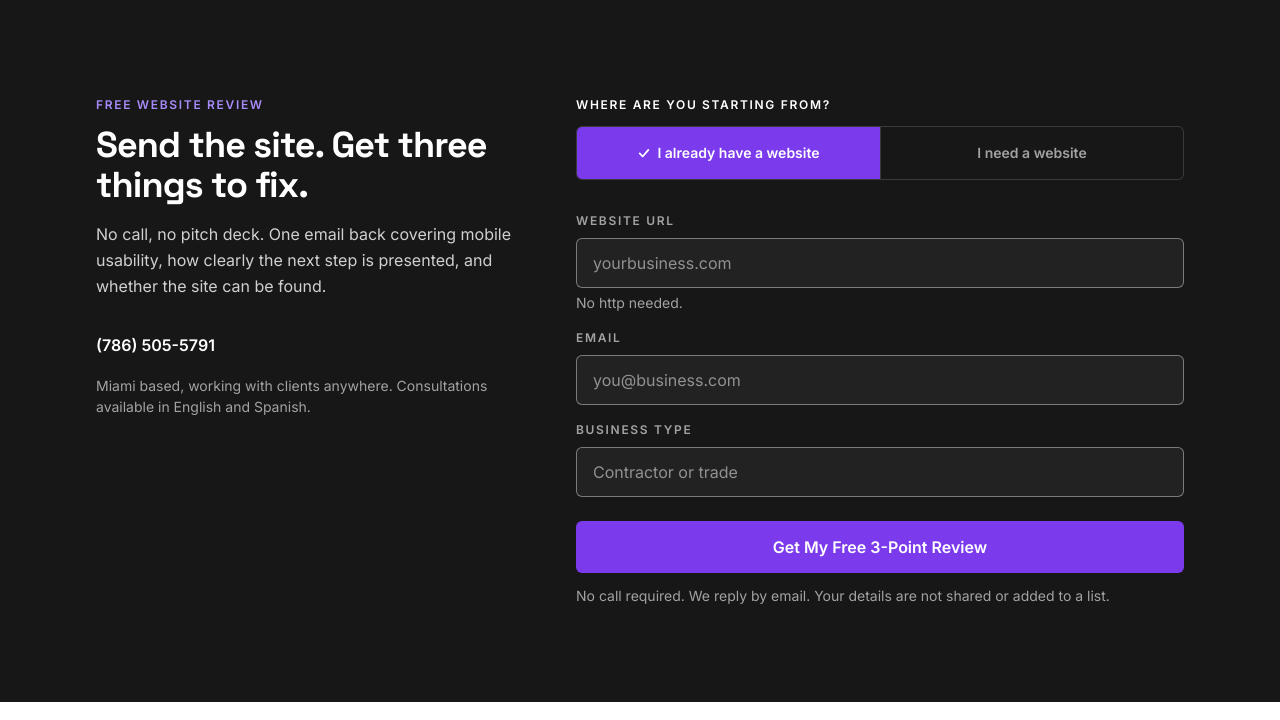
website address validation › rejects  and sends nothing
Type "bob@site.com" into the field labelled "Email" at (880, 380), box top-left (576, 355), bottom-right (1184, 405)
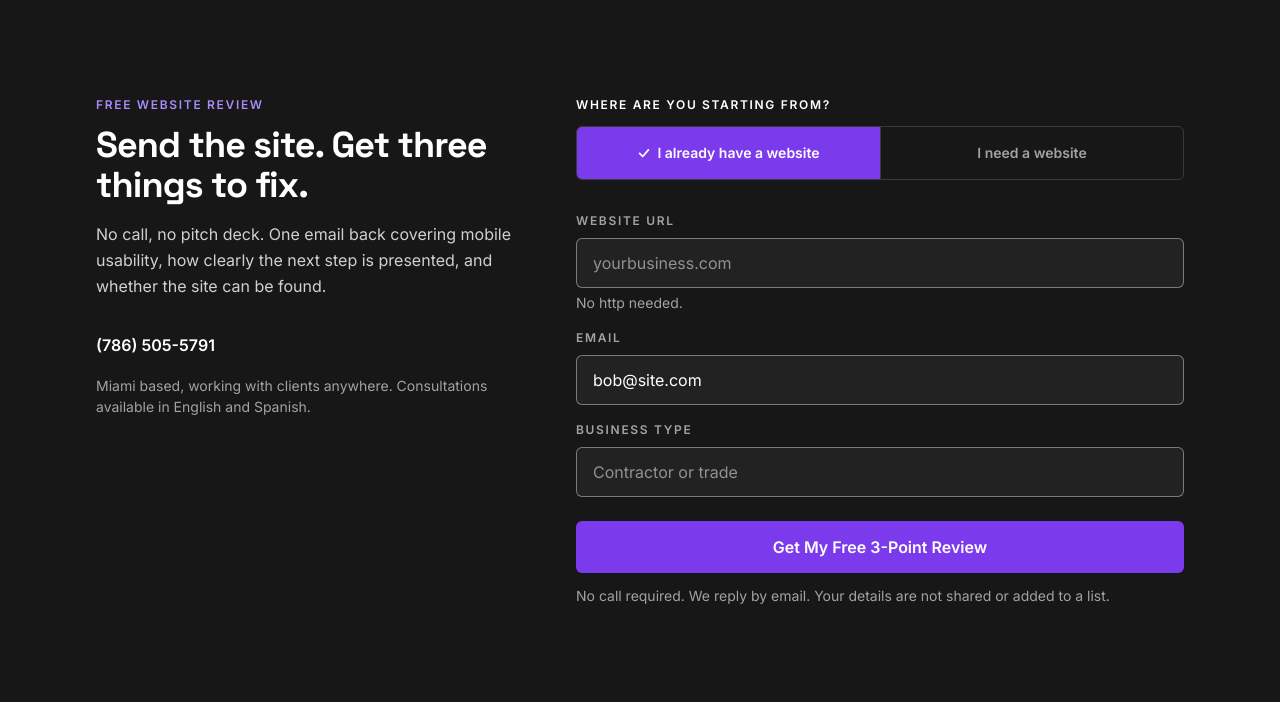
Click the button "Get My Free 3-Point Review" at (880, 547), box top-left (576, 521), bottom-right (1184, 573)
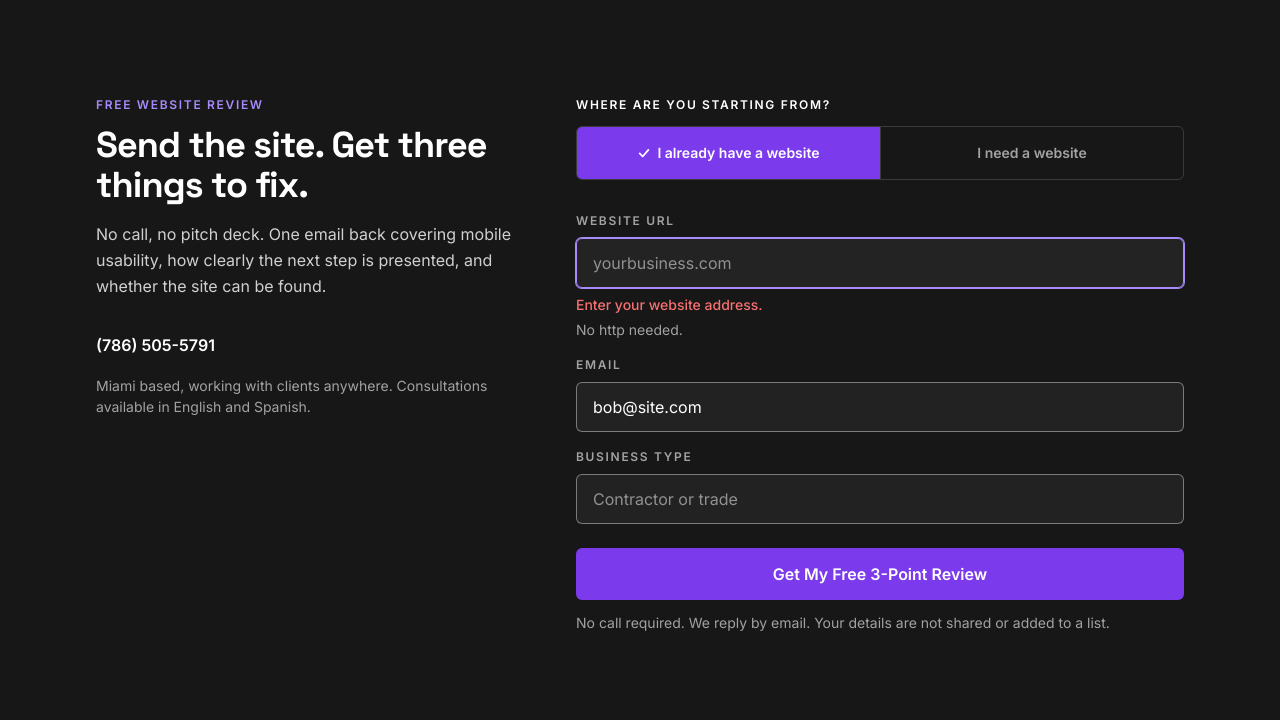
Check: the text "Enter your website address." is shown, box top-left (576, 296), bottom-right (762, 313)
